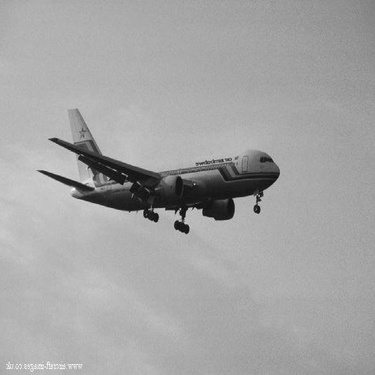airplane: (29, 89, 288, 248)
